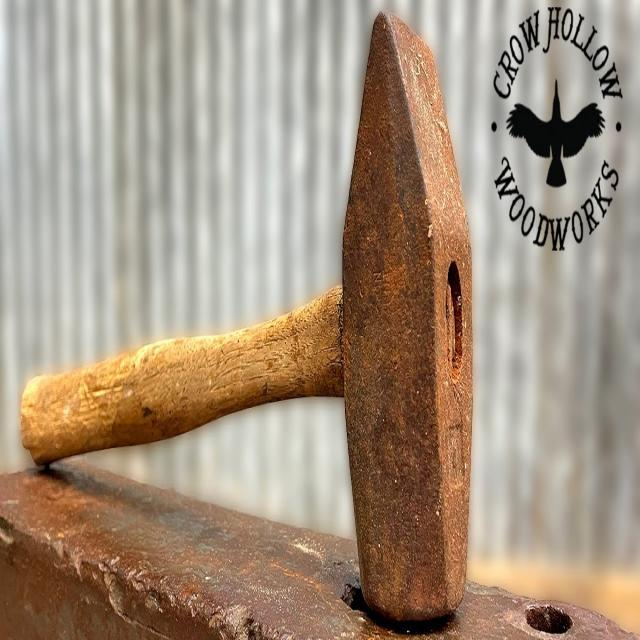hammer: (16, 8, 479, 640)
